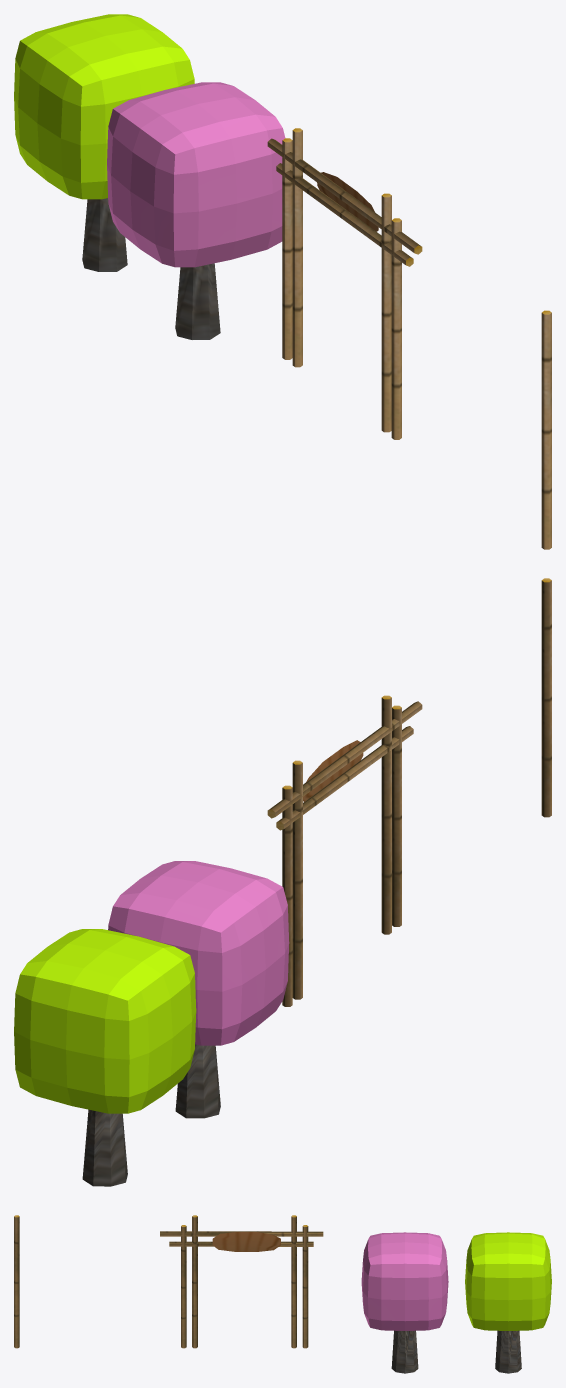
File: TreeAndGate.fbx
3 renders of one model, top to bottom at view 1: azimuth 30°, elevation 25°; view 2: azimuth 150°, elevation 25°; view 3: azimuth 270°, elevation 25°, orthographic. The views are drawn at different scales.
Visible parts, largest first — view 1: Cube, Cube.001, Cylinder.001, Cylinder.006; view 2: Cube.001, Cube, Cylinder.001, Cylinder.006; view 3: Cube, Cube.001, Cylinder.001, Cylinder.006.
Part boxes in pixels (x1=…): Cube: x1=107, y1=82, x2=285, y2=339; Cube.001: x1=14, y1=14, x2=194, y2=271; Cylinder.001: x1=267, y1=128, x2=422, y2=439; Cylinder.006: x1=541, y1=310, x2=551, y2=549; Cube.001: x1=14, y1=929, x2=196, y2=1186; Cube: x1=108, y1=861, x2=289, y2=1118; Cylinder.001: x1=267, y1=695, x2=422, y2=1006; Cylinder.006: x1=541, y1=578, x2=551, y2=817; Cube: x1=361, y1=1232, x2=448, y2=1373; Cube.001: x1=465, y1=1232, x2=551, y2=1373; Cylinder.001: x1=160, y1=1215, x2=323, y2=1348; Cylinder.006: x1=14, y1=1215, x2=19, y2=1348.
Size of the model in its own units: 196 by 380 by 1210.
